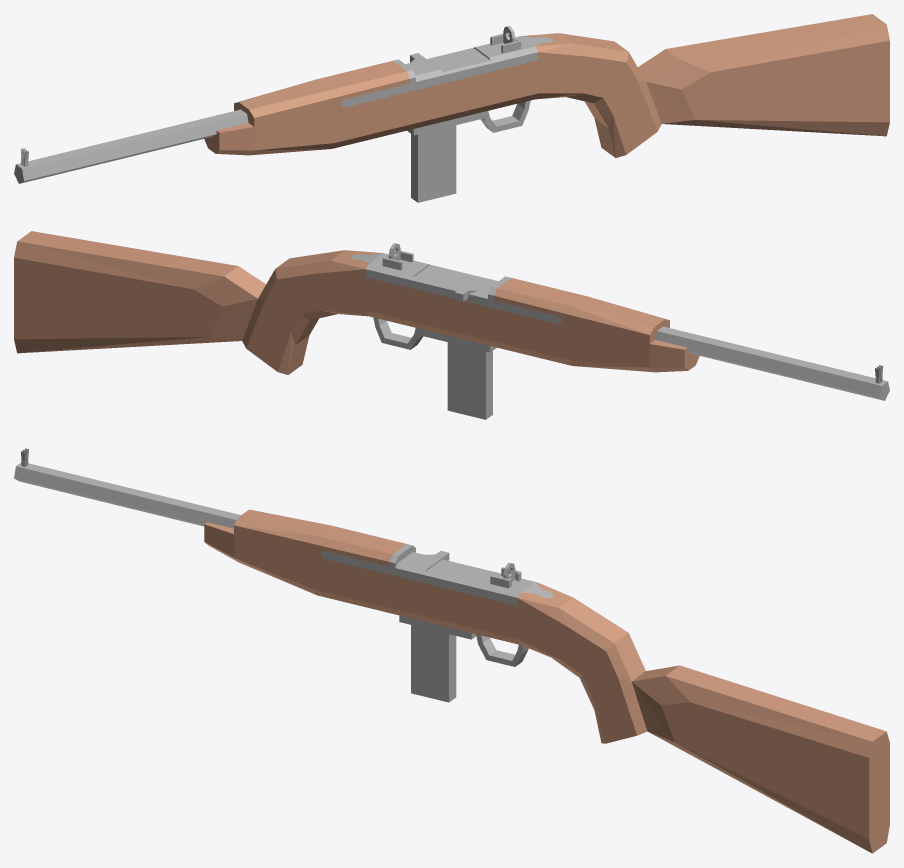
File: M1Carbine.fbx
3 renders of one model, top to bottom at view 1: azimuth 30°, elevation 25°; view 2: azimuth 150°, elevation 25°; view 3: azimuth 330°, elevation 25°, orthographic.
Parts seen in each view (by area): view 1: Gun, Mag; view 2: Gun, Mag; view 3: Gun, Mag.
Part boxes in pixels (<box>): Gun: <box>14,14,889,183</box>; Mag: <box>411,125,456,202</box>; Gun: <box>14,231,889,400</box>; Mag: <box>447,342,492,419</box>; Gun: <box>14,448,889,853</box>; Mag: <box>411,625,456,702</box>.
Bounding box in the file's own units: 0.5355 × 0.1158 × 0.0277.
